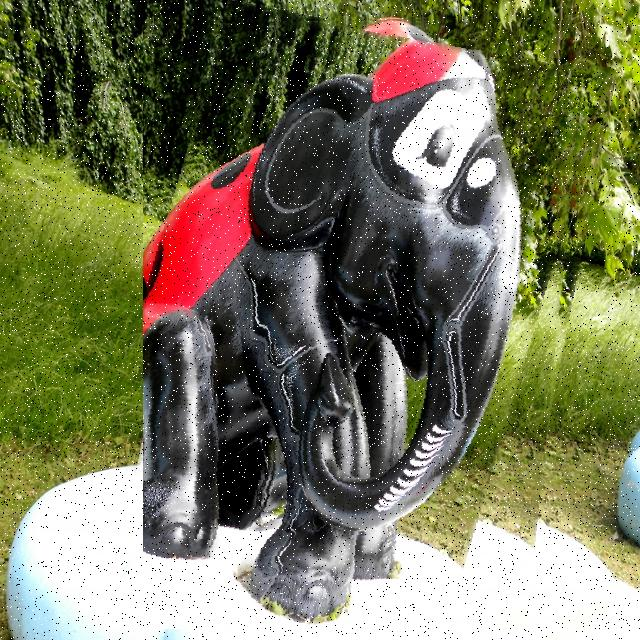elephant: (143, 16, 590, 630)
